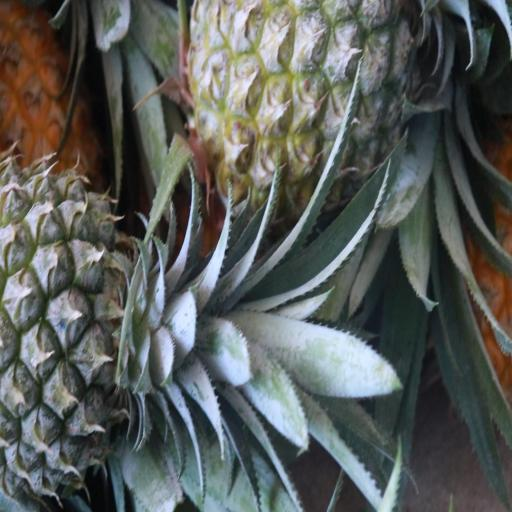------------------------------: (189, 0, 423, 219)
